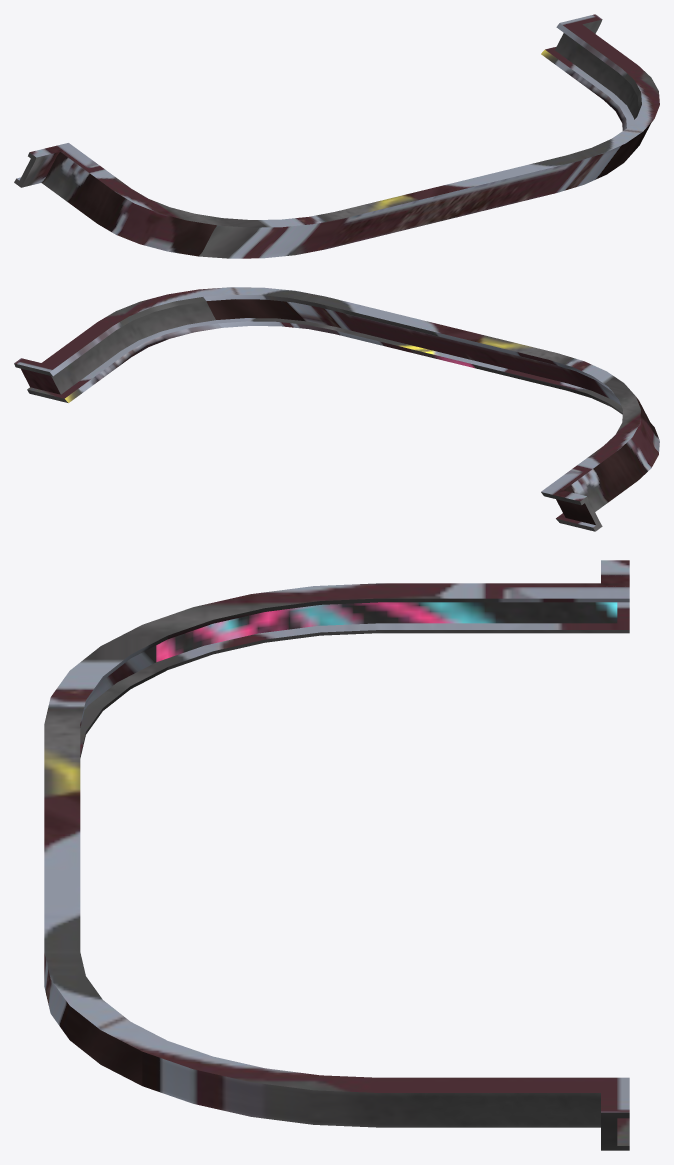
File: beam_vert_lean_L.fbx
3 renders of one model, top to bottom at view 1: azimuth 30°, elevation 25°; view 2: azimuth 150°, elevation 25°; view 3: azimuth 270°, elevation 25°, orthographic. The views are drawn at different scales.
Visible parts, largest first — view 1: beam_hor_02.001; view 2: beam_hor_02.001; view 3: beam_hor_02.001.
Boxes of the visible parts, bbox=[...] form: beam_hor_02.001: bbox=[14, 14, 659, 258]; beam_hor_02.001: bbox=[14, 287, 659, 531]; beam_hor_02.001: bbox=[44, 560, 629, 1150].
Size of the model in its own units: 4787 by 209 by 2088.
